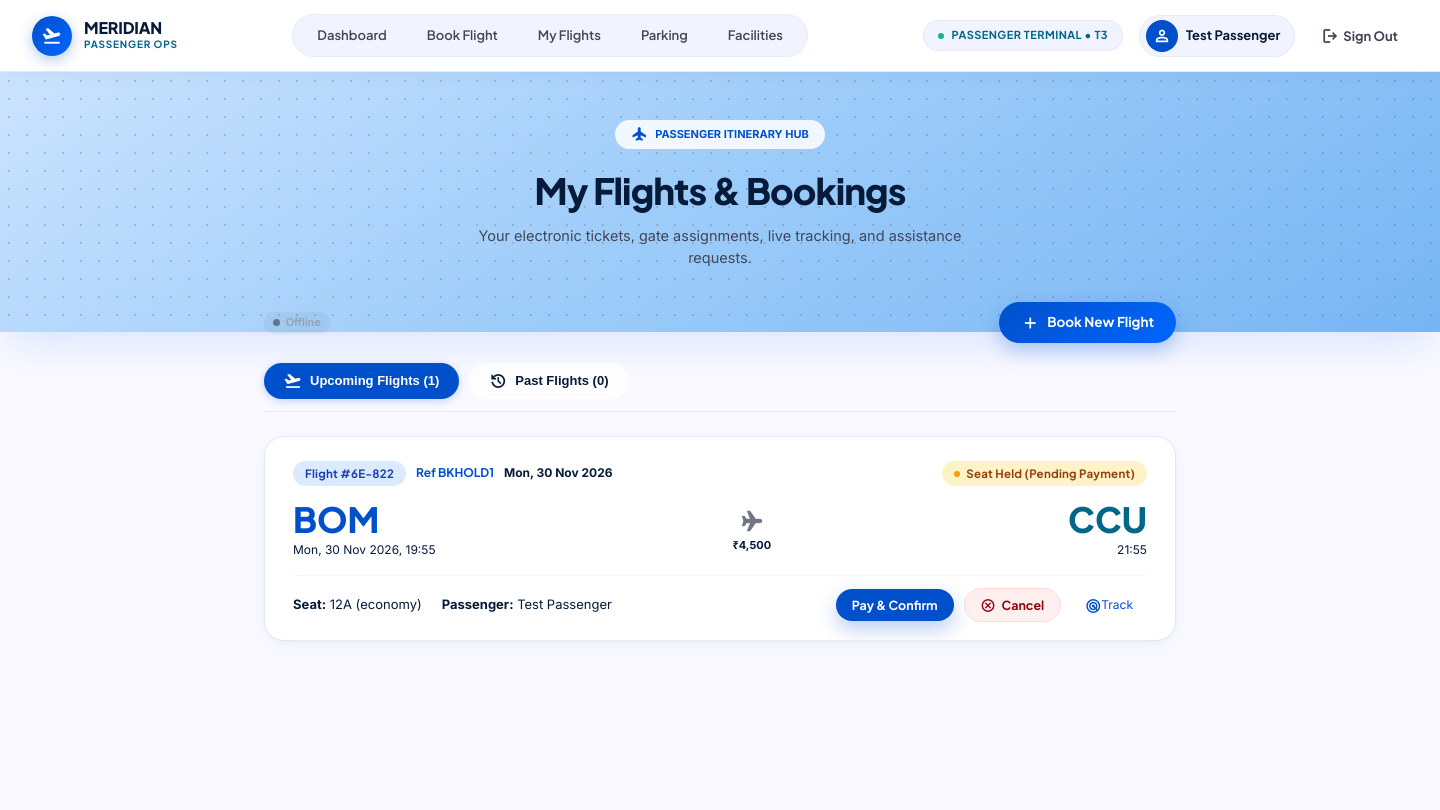
Booking conflict error banners in BookFlight and MyFlights › MyFlights shows readable error banner with conflicting flight number when confirm-payment returns 409
Click the button "Pay & Confirm".
click(895, 605)  # box [836, 589, 954, 621]
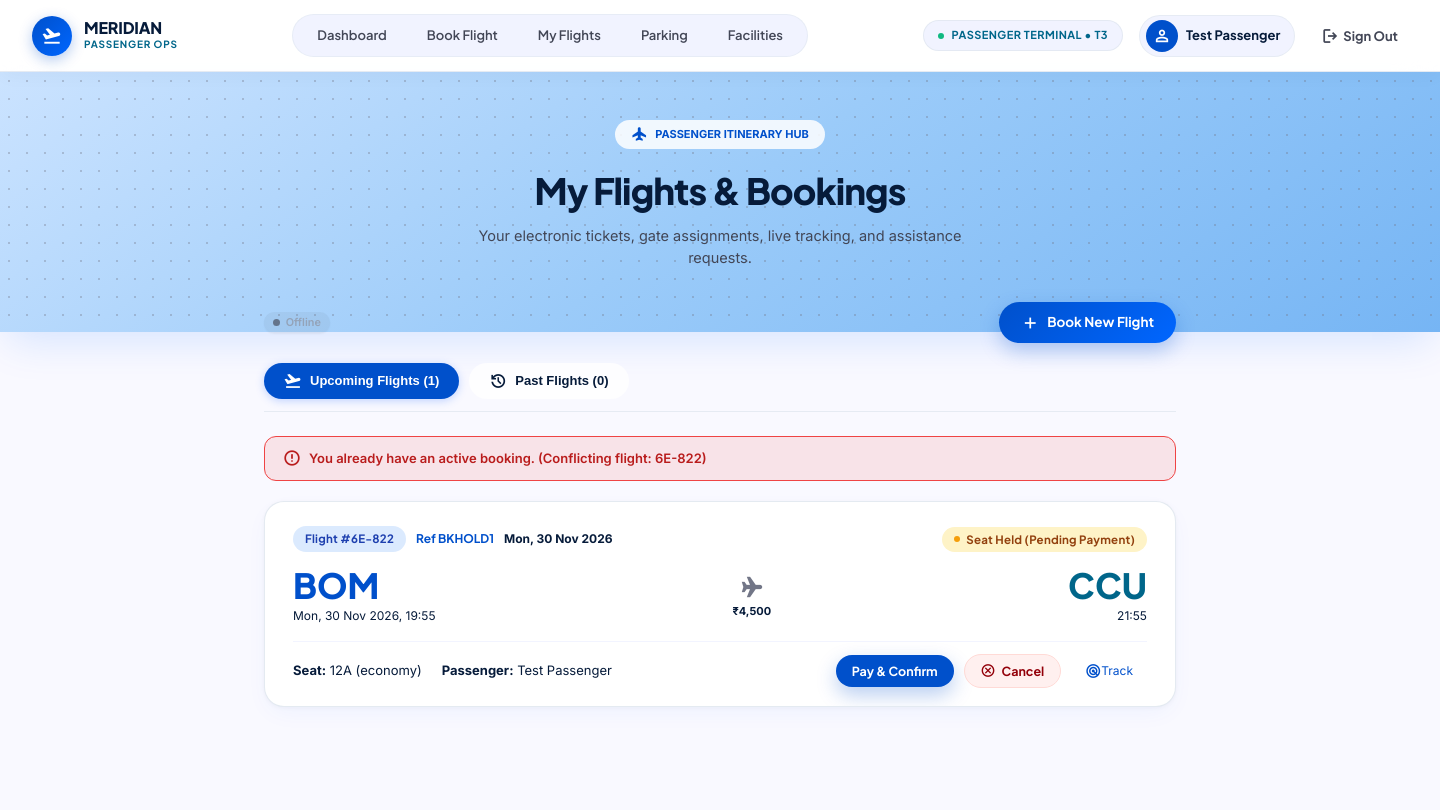
Check: the message shows "6E-822", box [309, 450, 707, 466]
Check: the message shows "already have an active booking", box [309, 450, 707, 466]
